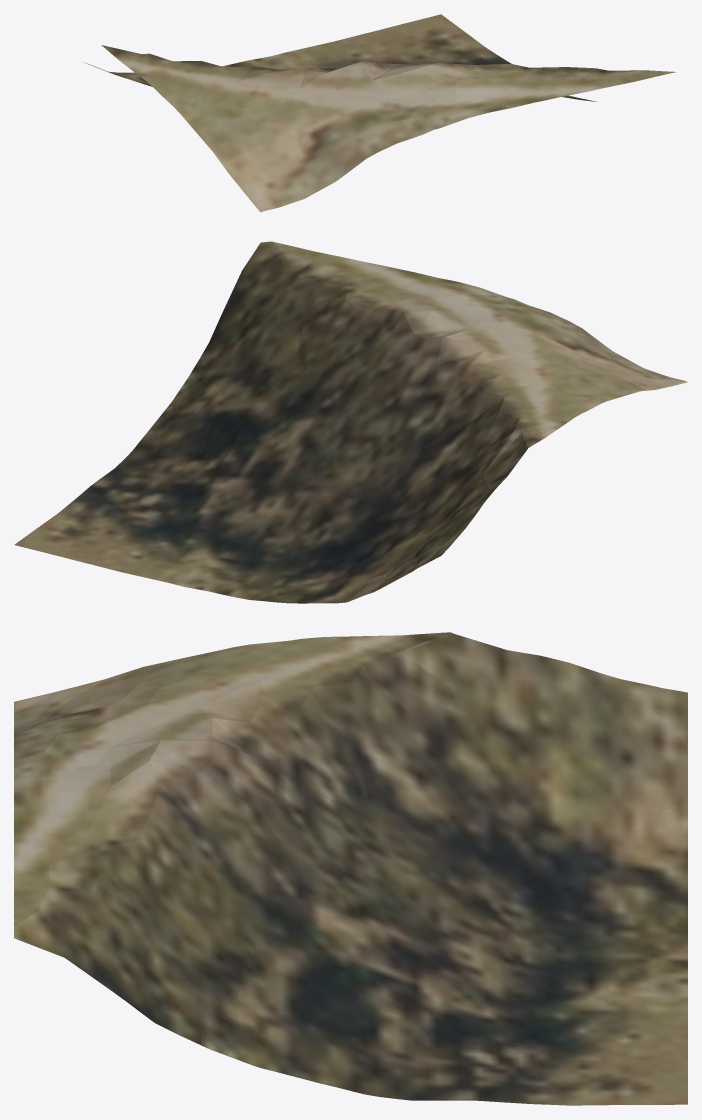
3 views of the same model, one above another, from view 1: azimuth 30°, elevation 25°; view 2: azimuth 150°, elevation 25°; view 3: azimuth 270°, elevation 25° (orthographic). The views are drawn at different scales.
Bounding box in the file's own units: 52.22 × 16.93 × 52.22.
Materials: 2 (2 with a texture image).
